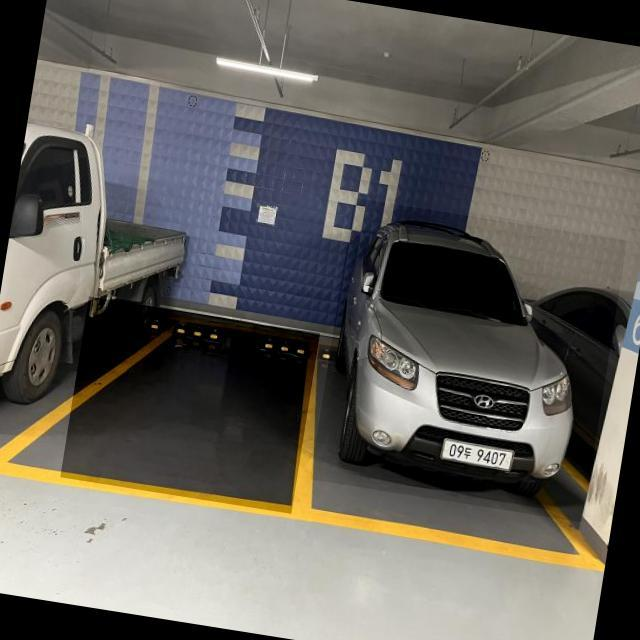empty: (60, 296, 320, 514)
occupied: (310, 198, 627, 522)
